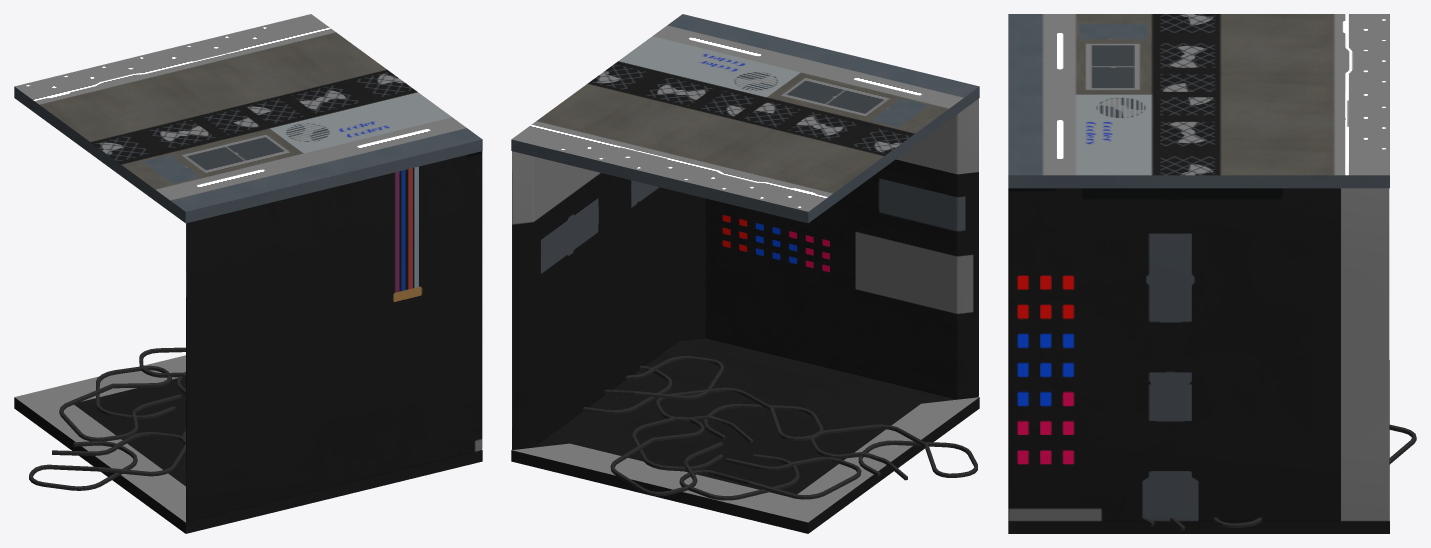
File: corner invert variation 3.fbx
3 views of the same model, side by side, from view 1: azimuth 30°, elevation 25°; view 2: azimuth 150°, elevation 25°; view 3: azimuth 270°, elevation 25° (orthographic). The views are drawn at different scales.
Parts seen in each view (by area): view 1: Cube, Plane.001, Plane, Cube.004; view 2: Cube, Plane.001, Plane, Cube.004; view 3: Cube, Plane.001, Plane, Cube.004.
Part boxes in pixels (left/top/right/bottom): Cube: left=186, top=151, right=482, bottom=522; Plane.001: left=14, top=14, right=482, bottom=223; Plane: left=14, top=355, right=482, bottom=533; Cube.004: left=29, top=347, right=185, bottom=490; Cube: left=512, top=99, right=978, bottom=449; Plane.001: left=511, top=14, right=979, bottom=223; Plane: left=511, top=338, right=979, bottom=533; Cube.004: left=583, top=356, right=977, bottom=500; Cube: left=1008, top=188, right=1389, bottom=521; Plane.001: left=1008, top=14, right=1389, bottom=188; Plane: left=1008, top=360, right=1389, bottom=533; Cube.004: left=1142, top=424, right=1416, bottom=530.
Size of the model in its own units: 263 by 207 by 214.
